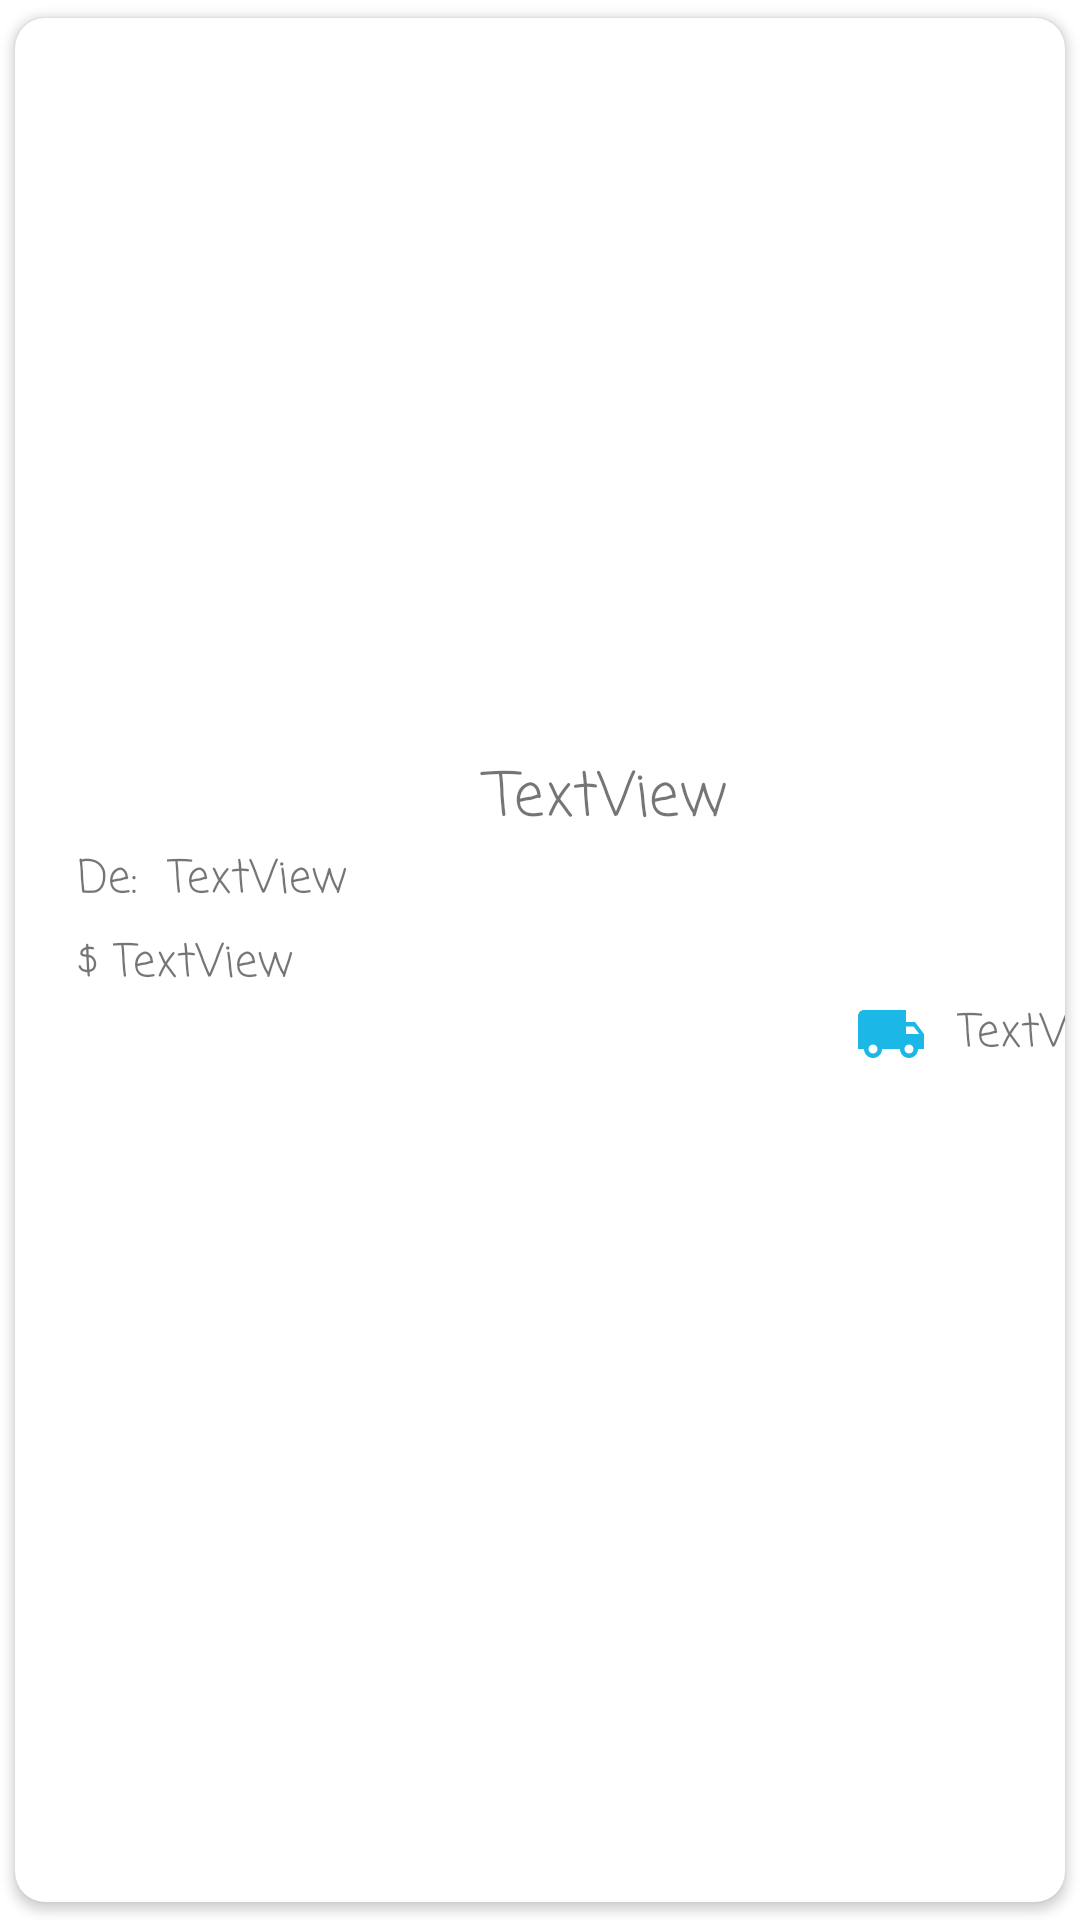

Where icons sit on this 1080px x 1920px app screen, as rect(x1, y1, x2, y2):
local shipping: rect(858, 1010, 924, 1058)
